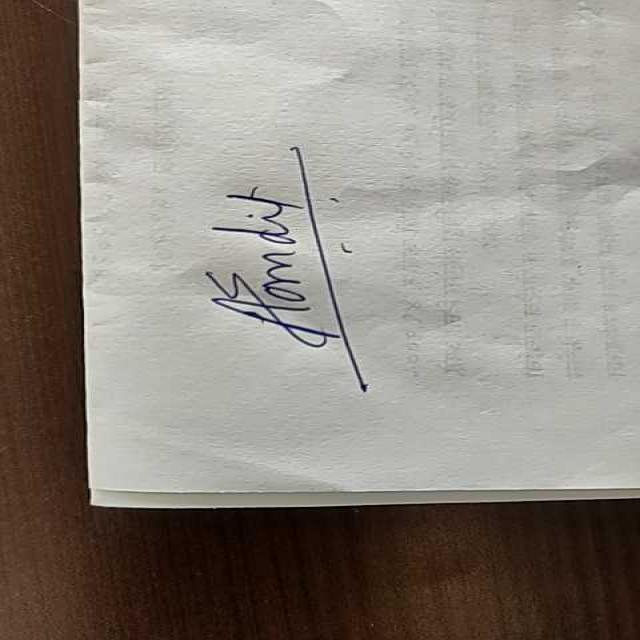signature: (194, 140, 378, 414)
